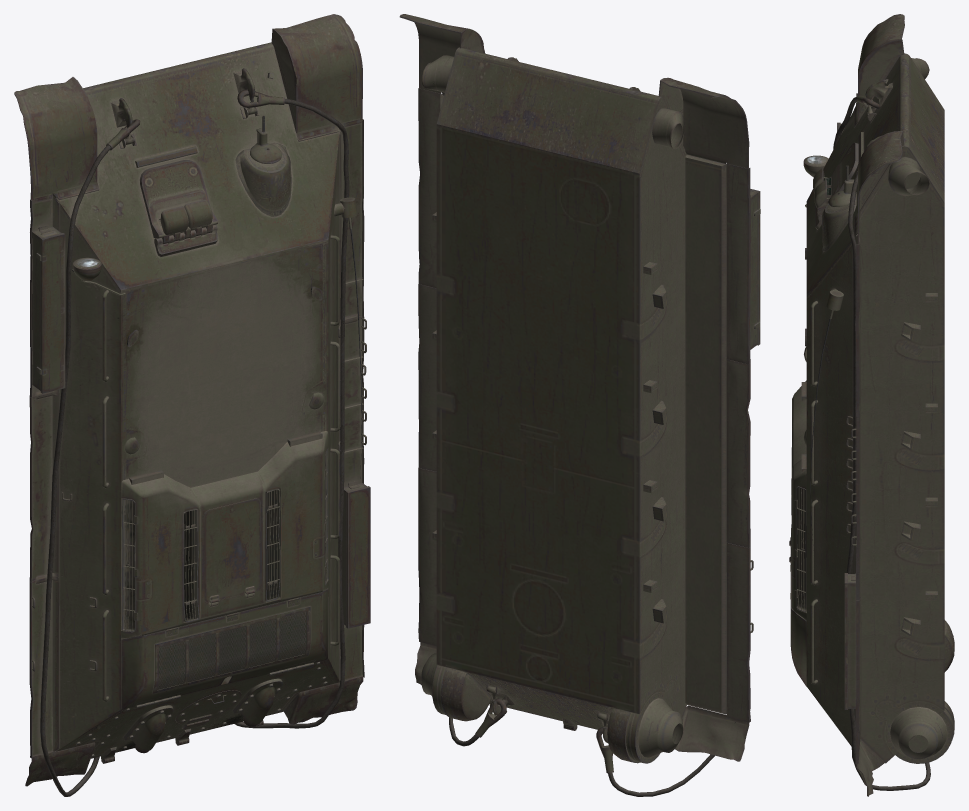
File: Hull.glb
3 views of the same model, side by side, from view 1: azimuth 30°, elevation 25°; view 2: azimuth 150°, elevation 25°; view 3: azimuth 270°, elevation 25° (orthographic). The views are drawn at different scales.
Parts seen in each view (by area): view 1: set_0_group_0; view 2: set_0_group_0; view 3: set_0_group_0.
Boxes of the visible parts, x1,y1,x2,y2 form: set_0_group_0: (14,14,370,796); set_0_group_0: (399,14,760,796); set_0_group_0: (789,14,954,796).
Size of the model in its own units: 3.02 by 6.21 by 1.39.
Materials: 1 (1 with a texture image).
